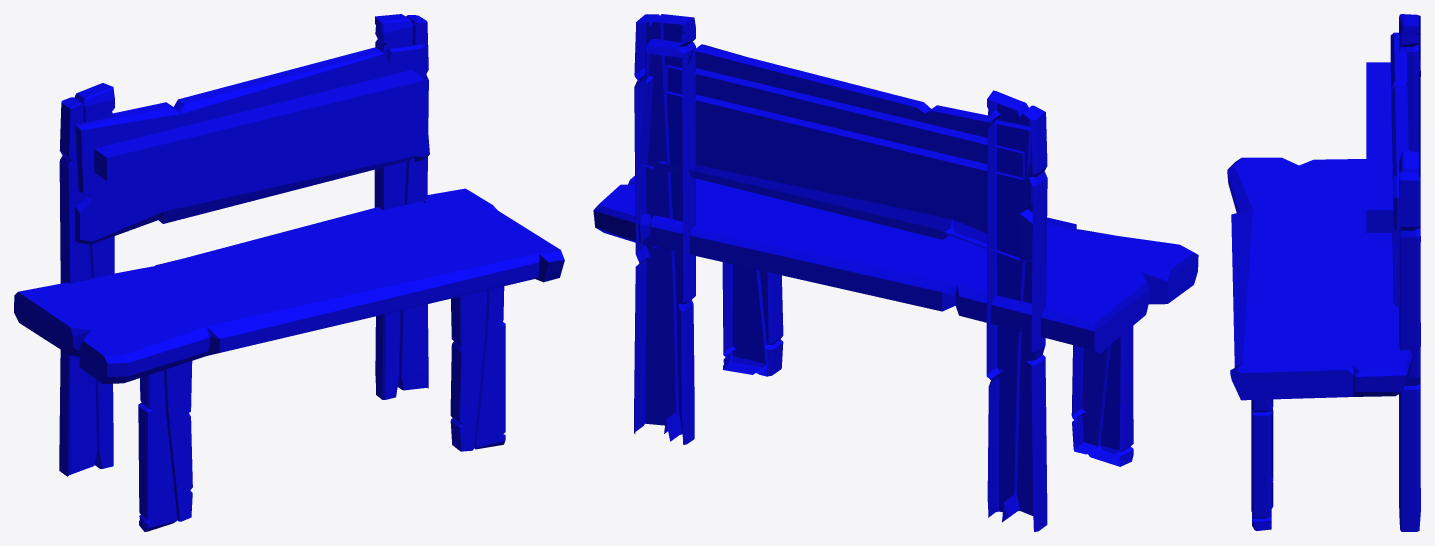
Rendered from CastingRoom_Table.fbx.
The picture shows the model from 3 angles, left to right: view 1: azimuth 30°, elevation 25°; view 2: azimuth 150°, elevation 25°; view 3: azimuth 270°, elevation 25°; orthographic projection. The views are drawn at different scales.
Visible parts, largest first — view 1: CastingRoom_Table; view 2: CastingRoom_Table; view 3: CastingRoom_Table.
Part boxes in pixels (x1=…): CastingRoom_Table: x1=14, y1=14, x2=564, y2=531; CastingRoom_Table: x1=593, y1=14, x2=1198, y2=531; CastingRoom_Table: x1=1227, y1=14, x2=1420, y2=531.
Bounding box in the file's own units: 807 × 638 × 311.
